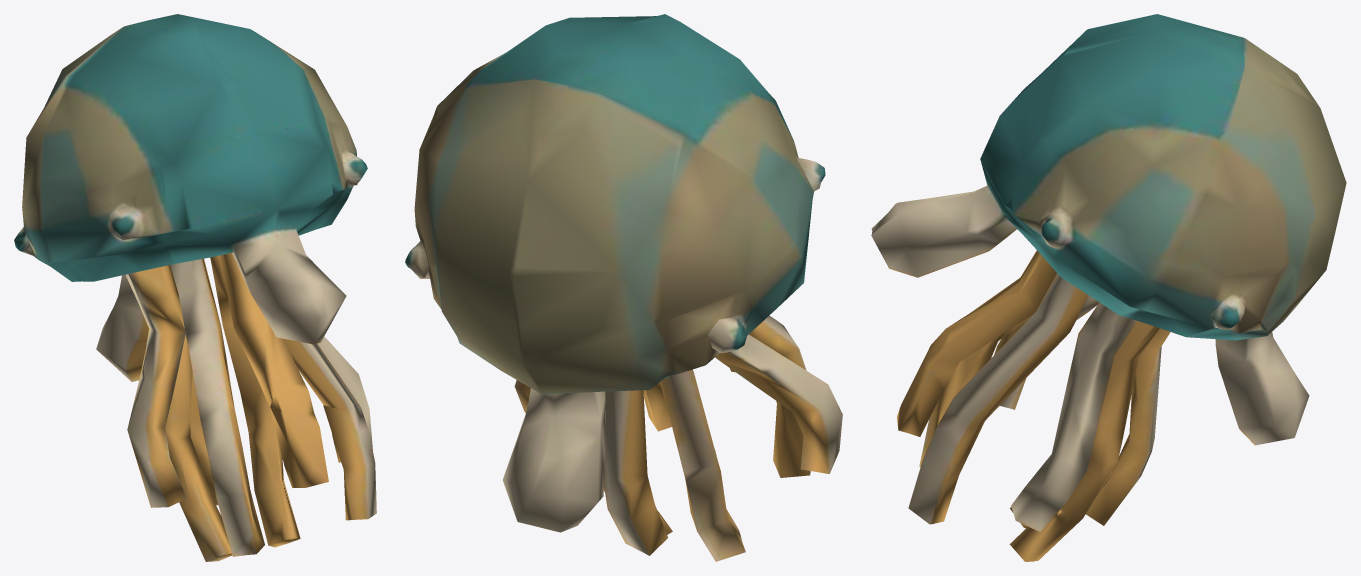
The model's file is m3d_aleta-g1.glb.
3 views of the same model, side by side, from view 1: azimuth 30°, elevation 25°; view 2: azimuth 150°, elevation 25°; view 3: azimuth 270°, elevation 25° (orthographic). The views are drawn at different scales.
Visible parts, largest first — view 1: tripo_node_8e038f39-eee4-41d8-977c-ee029d0d5721; view 2: tripo_node_8e038f39-eee4-41d8-977c-ee029d0d5721; view 3: tripo_node_8e038f39-eee4-41d8-977c-ee029d0d5721.
Boxes of the visible parts, x1,y1,x2,y2 form: tripo_node_8e038f39-eee4-41d8-977c-ee029d0d5721: (14, 14, 376, 561); tripo_node_8e038f39-eee4-41d8-977c-ee029d0d5721: (405, 14, 842, 561); tripo_node_8e038f39-eee4-41d8-977c-ee029d0d5721: (871, 14, 1346, 561).
Bounding box in the file's own units: 0.6628 × 0.9999 × 0.8369.
1 material, 1 textured.
